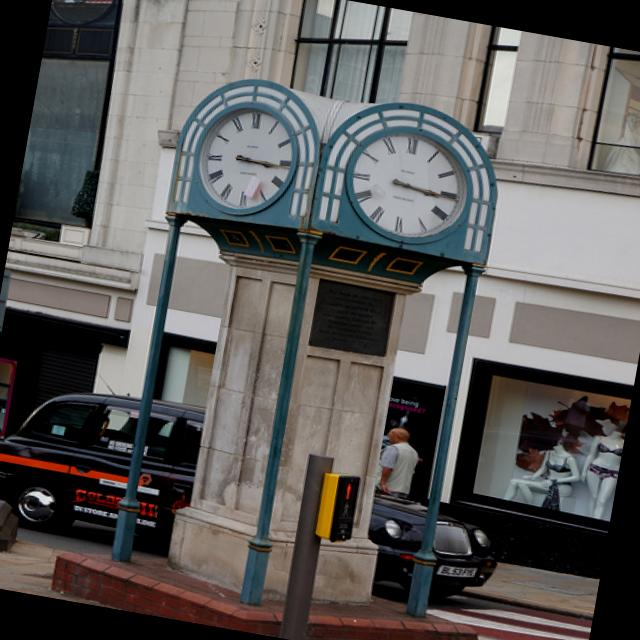Vehicle: (0, 368, 518, 610)
